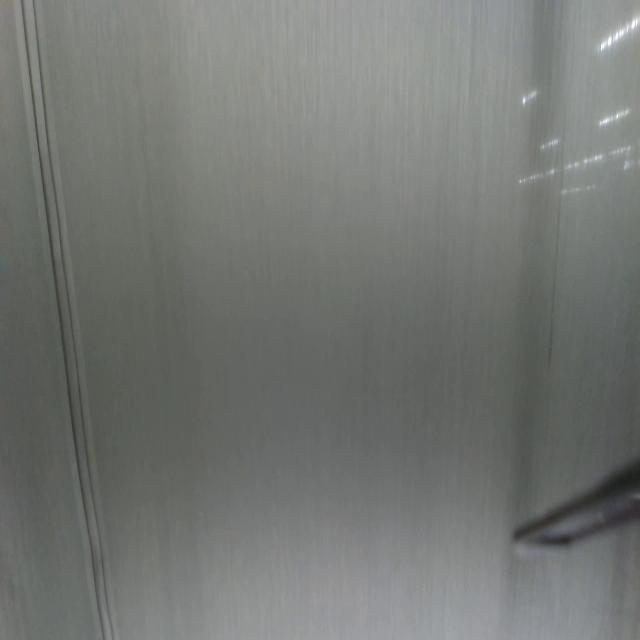crease: (12, 1, 116, 640), (542, 114, 568, 371)
